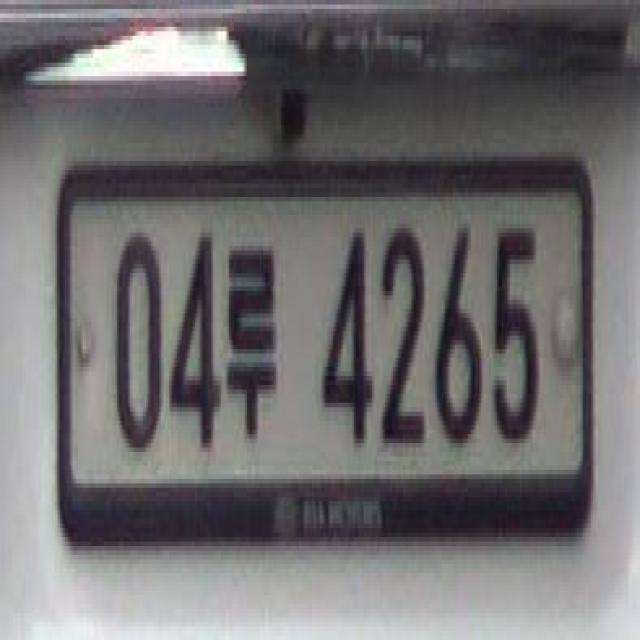illegal_plate: (55, 150, 604, 564)
